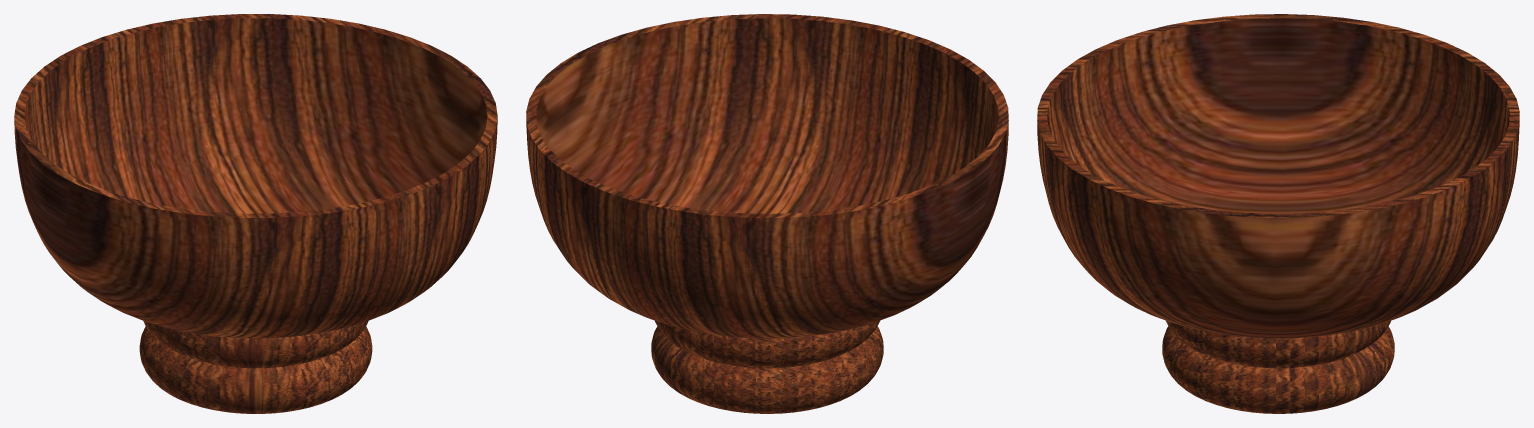
Rendered from bowl_04_origin.dae.
3 views of the same model, side by side, from view 1: azimuth 30°, elevation 25°; view 2: azimuth 150°, elevation 25°; view 3: azimuth 270°, elevation 25° (orthographic).
Visible parts, largest first — view 1: FruitBowl; view 2: FruitBowl; view 3: FruitBowl.
Part boxes in pixels (x1,y1,x2,y2): FruitBowl: (14, 14, 497, 413); FruitBowl: (526, 14, 1008, 413); FruitBowl: (1037, 14, 1519, 413).
Size of the model in its own units: 3.84 by 3.84 by 2.24.
Materials: 1 (1 with a texture image).
